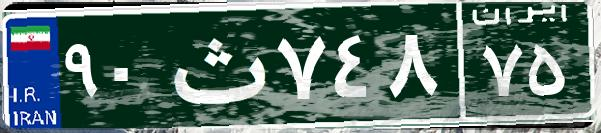0: (110, 28, 158, 105)
4: (330, 28, 385, 110)
5: (525, 38, 570, 115)
7: (273, 28, 330, 110), (475, 38, 525, 113)
8: (385, 28, 445, 110)
9: (57, 26, 110, 107)
ث: (158, 15, 273, 115)
